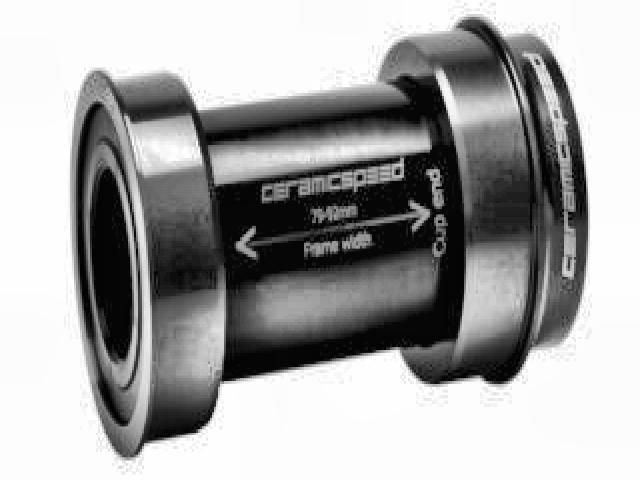bottom_bracket: (67, 10, 594, 460)
